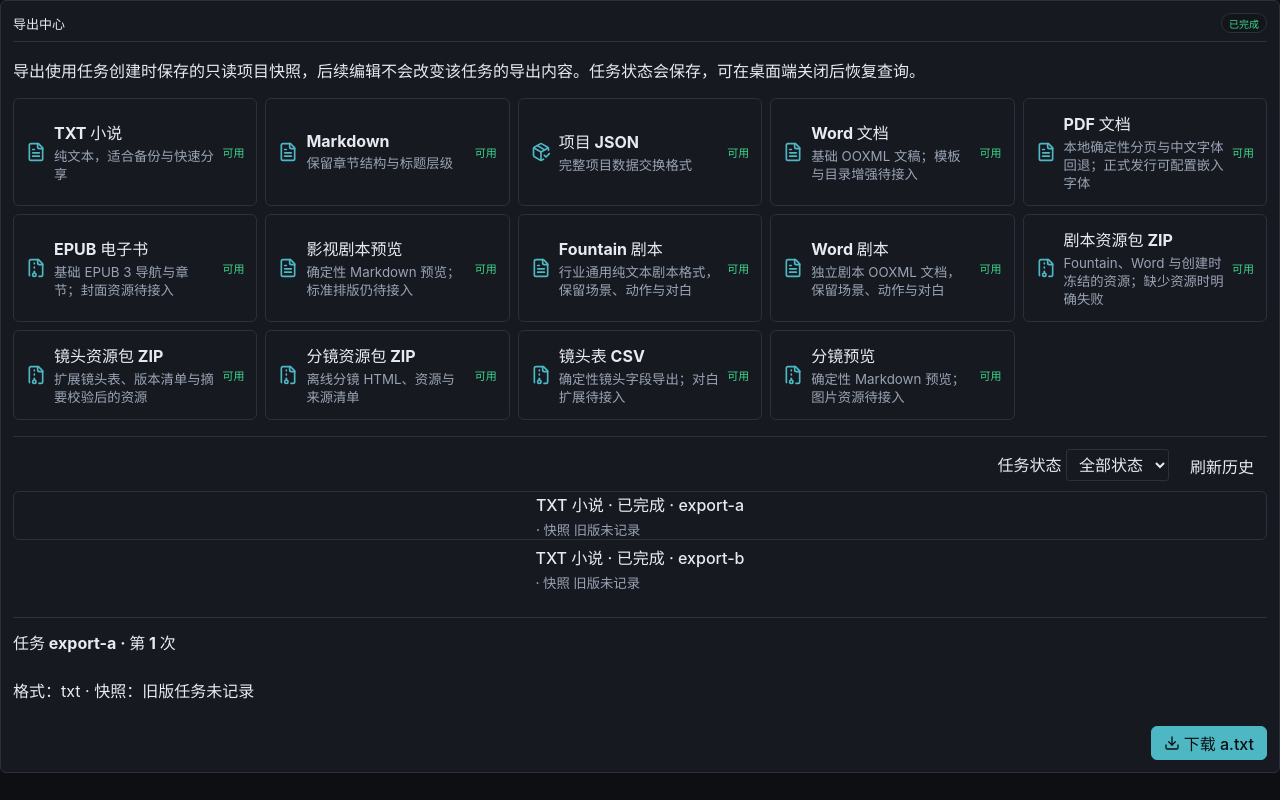
Test: Export download feedback › clears a prior handoff receipt when a fresh attempt fails without claiming a second download
Click the button "下载 a.txt" at (1209, 743), box [1151,726,1267,760]
(page scrolled)
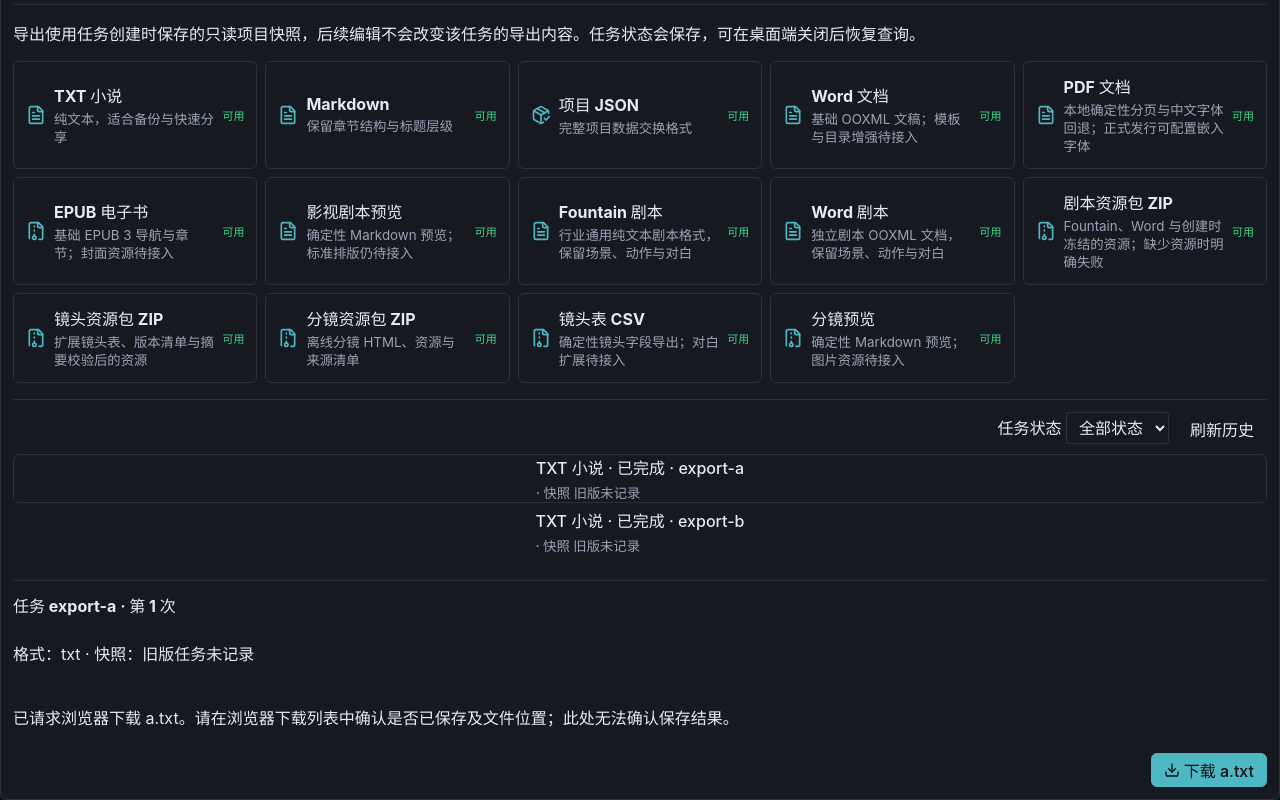
expect the text "已请求浏览器下载 a.txt。请在浏览器下载列表中确认是否已保存及文件位置；此处无法确认保存结果。" is shown: met, box [13,708,739,728]
Click the button "下载 a.txt" at (1209, 770), box [1151,753,1267,787]
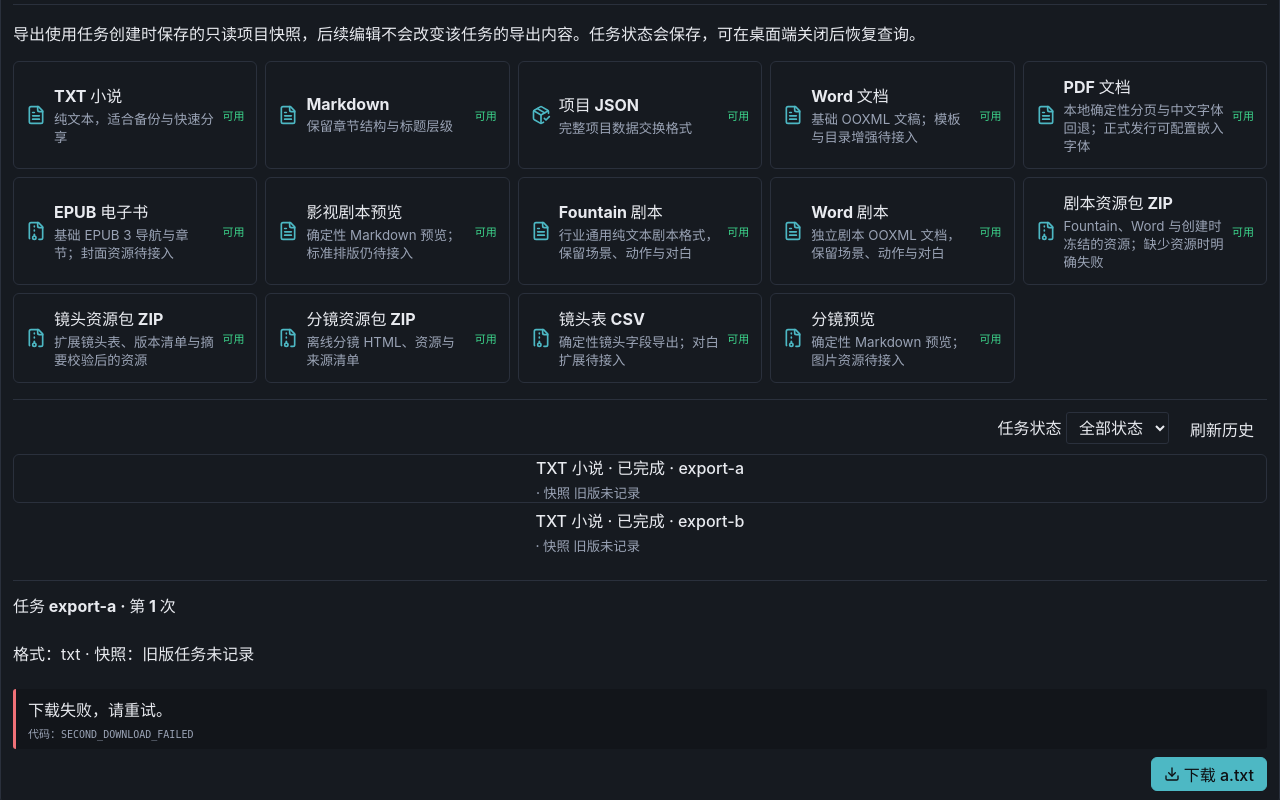
expect the text "下载失败，请重试。" is shown: met, box [28,700,172,720]
expect the text "已请求浏览器下载 a.txt" is gone: met
